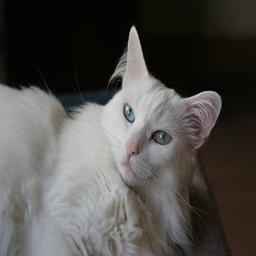catnose: (124, 138, 141, 162)
